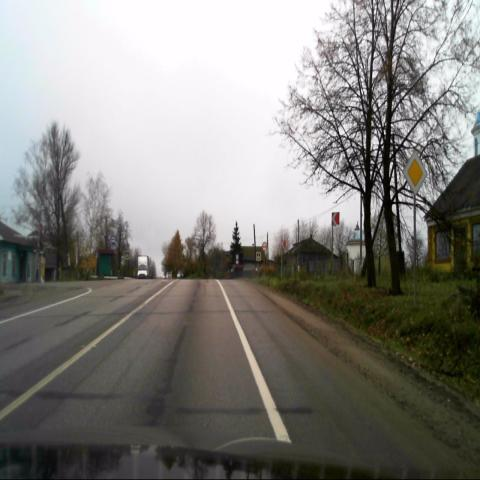2_1: (403, 151, 427, 195)
